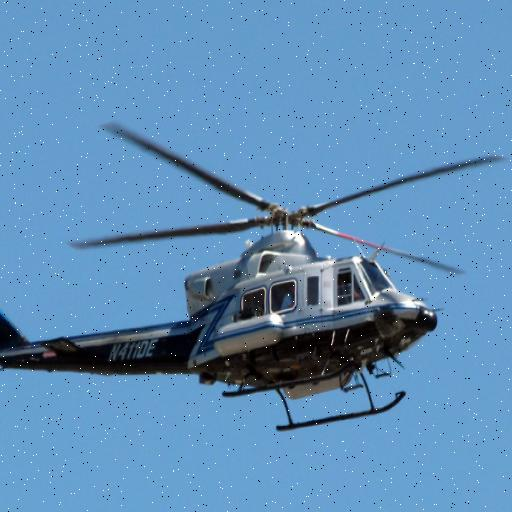helicopter: (1, 119, 504, 432)
